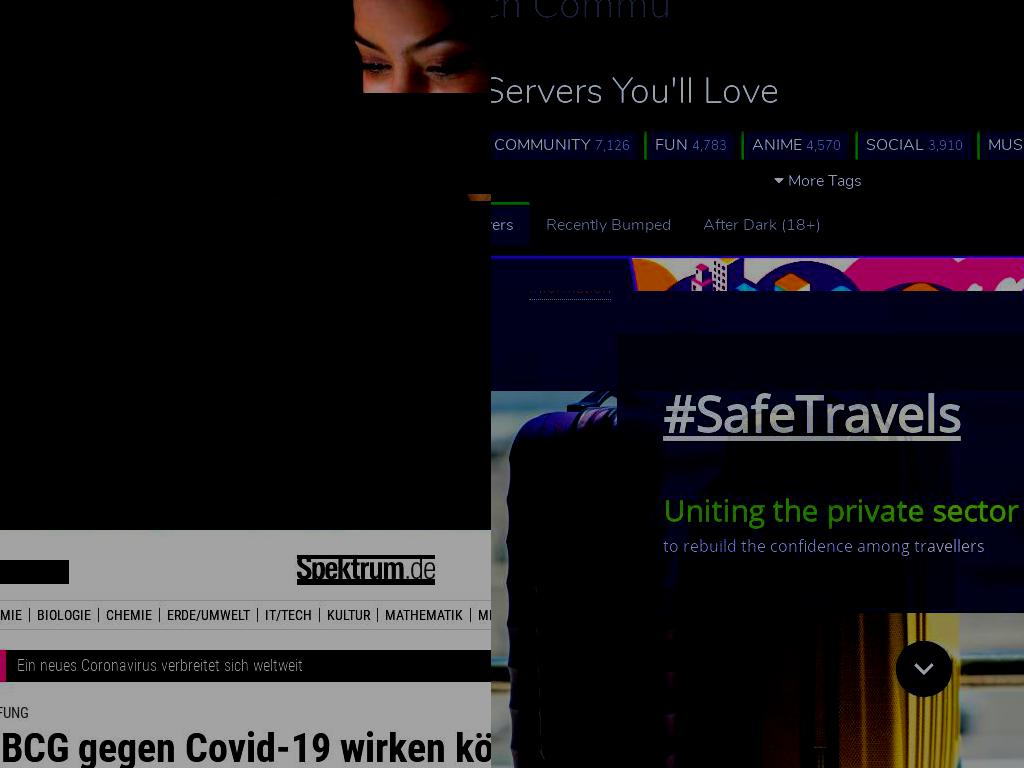button: (0, 649, 491, 682), (513, 4, 673, 61), (687, 4, 847, 61), (513, 71, 673, 128), (687, 71, 847, 128), (513, 138, 673, 195), (687, 138, 847, 195), (513, 205, 673, 262), (687, 205, 847, 262), (530, 202, 687, 246), (687, 202, 837, 246), (491, 242, 672, 271), (678, 242, 857, 271), (491, 131, 638, 160), (509, 168, 648, 197), (686, 205, 821, 234), (654, 168, 786, 197), (863, 242, 982, 271), (855, 131, 971, 160), (889, 168, 1003, 197), (741, 131, 849, 160), (513, 272, 673, 291), (687, 272, 847, 291), (578, 205, 680, 234), (297, 559, 435, 579), (921, 205, 1013, 234), (644, 131, 735, 160), (792, 168, 883, 197), (827, 205, 915, 234), (491, 205, 572, 234), (575, 279, 744, 291), (865, 279, 1015, 291), (491, 202, 530, 246), (159, 607, 257, 622), (377, 607, 470, 622), (977, 131, 1024, 160), (750, 279, 859, 291), (988, 242, 1024, 271), (29, 607, 98, 622), (491, 279, 569, 291), (257, 607, 319, 622), (98, 607, 159, 622), (319, 607, 377, 622), (0, 607, 29, 622), (470, 607, 491, 622)
field: (491, 0, 890, 32), (0, 560, 69, 584)
heading: (491, 70, 1024, 113), (0, 724, 491, 768), (662, 379, 961, 448), (662, 489, 1024, 531)
iframe: (0, 291, 491, 530)
image: (491, 291, 1024, 768), (616, 640, 1024, 697), (297, 555, 435, 585)
text: (0, 93, 491, 194), (0, 201, 491, 291), (0, 649, 491, 682), (0, 701, 491, 724), (662, 534, 1024, 557), (491, 245, 640, 267), (689, 245, 825, 267), (494, 134, 595, 156), (718, 83, 816, 105), (520, 171, 605, 193), (697, 208, 778, 230), (665, 171, 743, 193), (784, 170, 862, 192), (874, 245, 950, 267), (556, 217, 630, 239), (519, 40, 667, 50), (693, 40, 841, 50), (519, 107, 667, 117), (693, 107, 841, 117), (519, 174, 667, 184), (693, 174, 841, 184), (519, 241, 667, 251), (693, 241, 841, 251), (736, 217, 798, 239), (866, 134, 928, 156), (900, 171, 960, 193), (565, 83, 621, 105), (565, 150, 621, 172), (752, 134, 806, 156), (741, 16, 793, 38), (586, 282, 712, 291), (932, 208, 981, 230), (589, 208, 637, 230), (838, 208, 883, 230), (571, 16, 615, 38), (745, 150, 789, 172), (876, 282, 983, 291), (491, 208, 529, 230), (655, 134, 692, 156), (803, 171, 840, 193), (988, 134, 1024, 156), (595, 137, 630, 155), (692, 137, 727, 155), (806, 137, 841, 155), (928, 137, 963, 155), (605, 174, 640, 192), (743, 174, 778, 192), (840, 174, 875, 192), (960, 174, 995, 192), (529, 211, 564, 229), (637, 211, 672, 229), (778, 211, 813, 229), (761, 282, 827, 291), (552, 284, 634, 291), (999, 245, 1024, 267), (883, 211, 907, 229), (981, 211, 1005, 229), (640, 248, 664, 266), (825, 248, 849, 266), (950, 248, 974, 266), (491, 282, 537, 291), (740, 284, 794, 291), (537, 285, 561, 291), (712, 285, 736, 291), (827, 285, 851, 291), (983, 285, 1007, 291)
